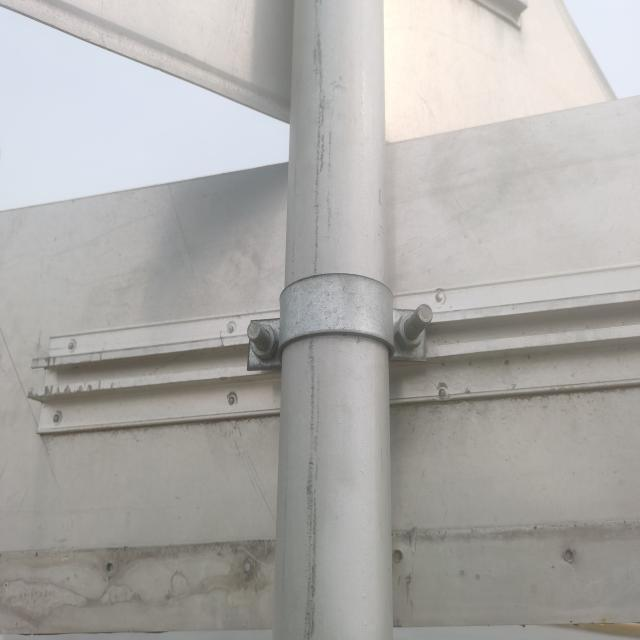bolt nut: (250, 324, 280, 361), (394, 313, 424, 350)
